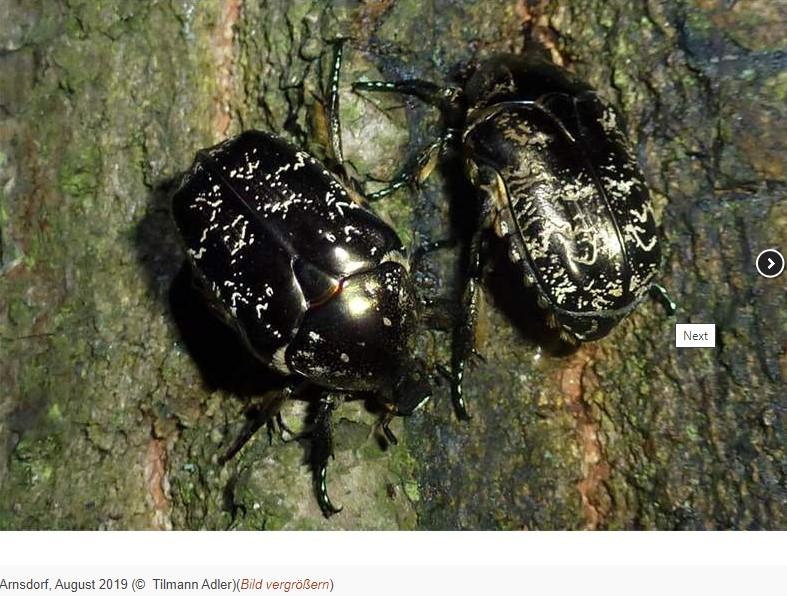Protaetia_lugubris: (131, 122, 443, 522), (350, 36, 670, 420)
